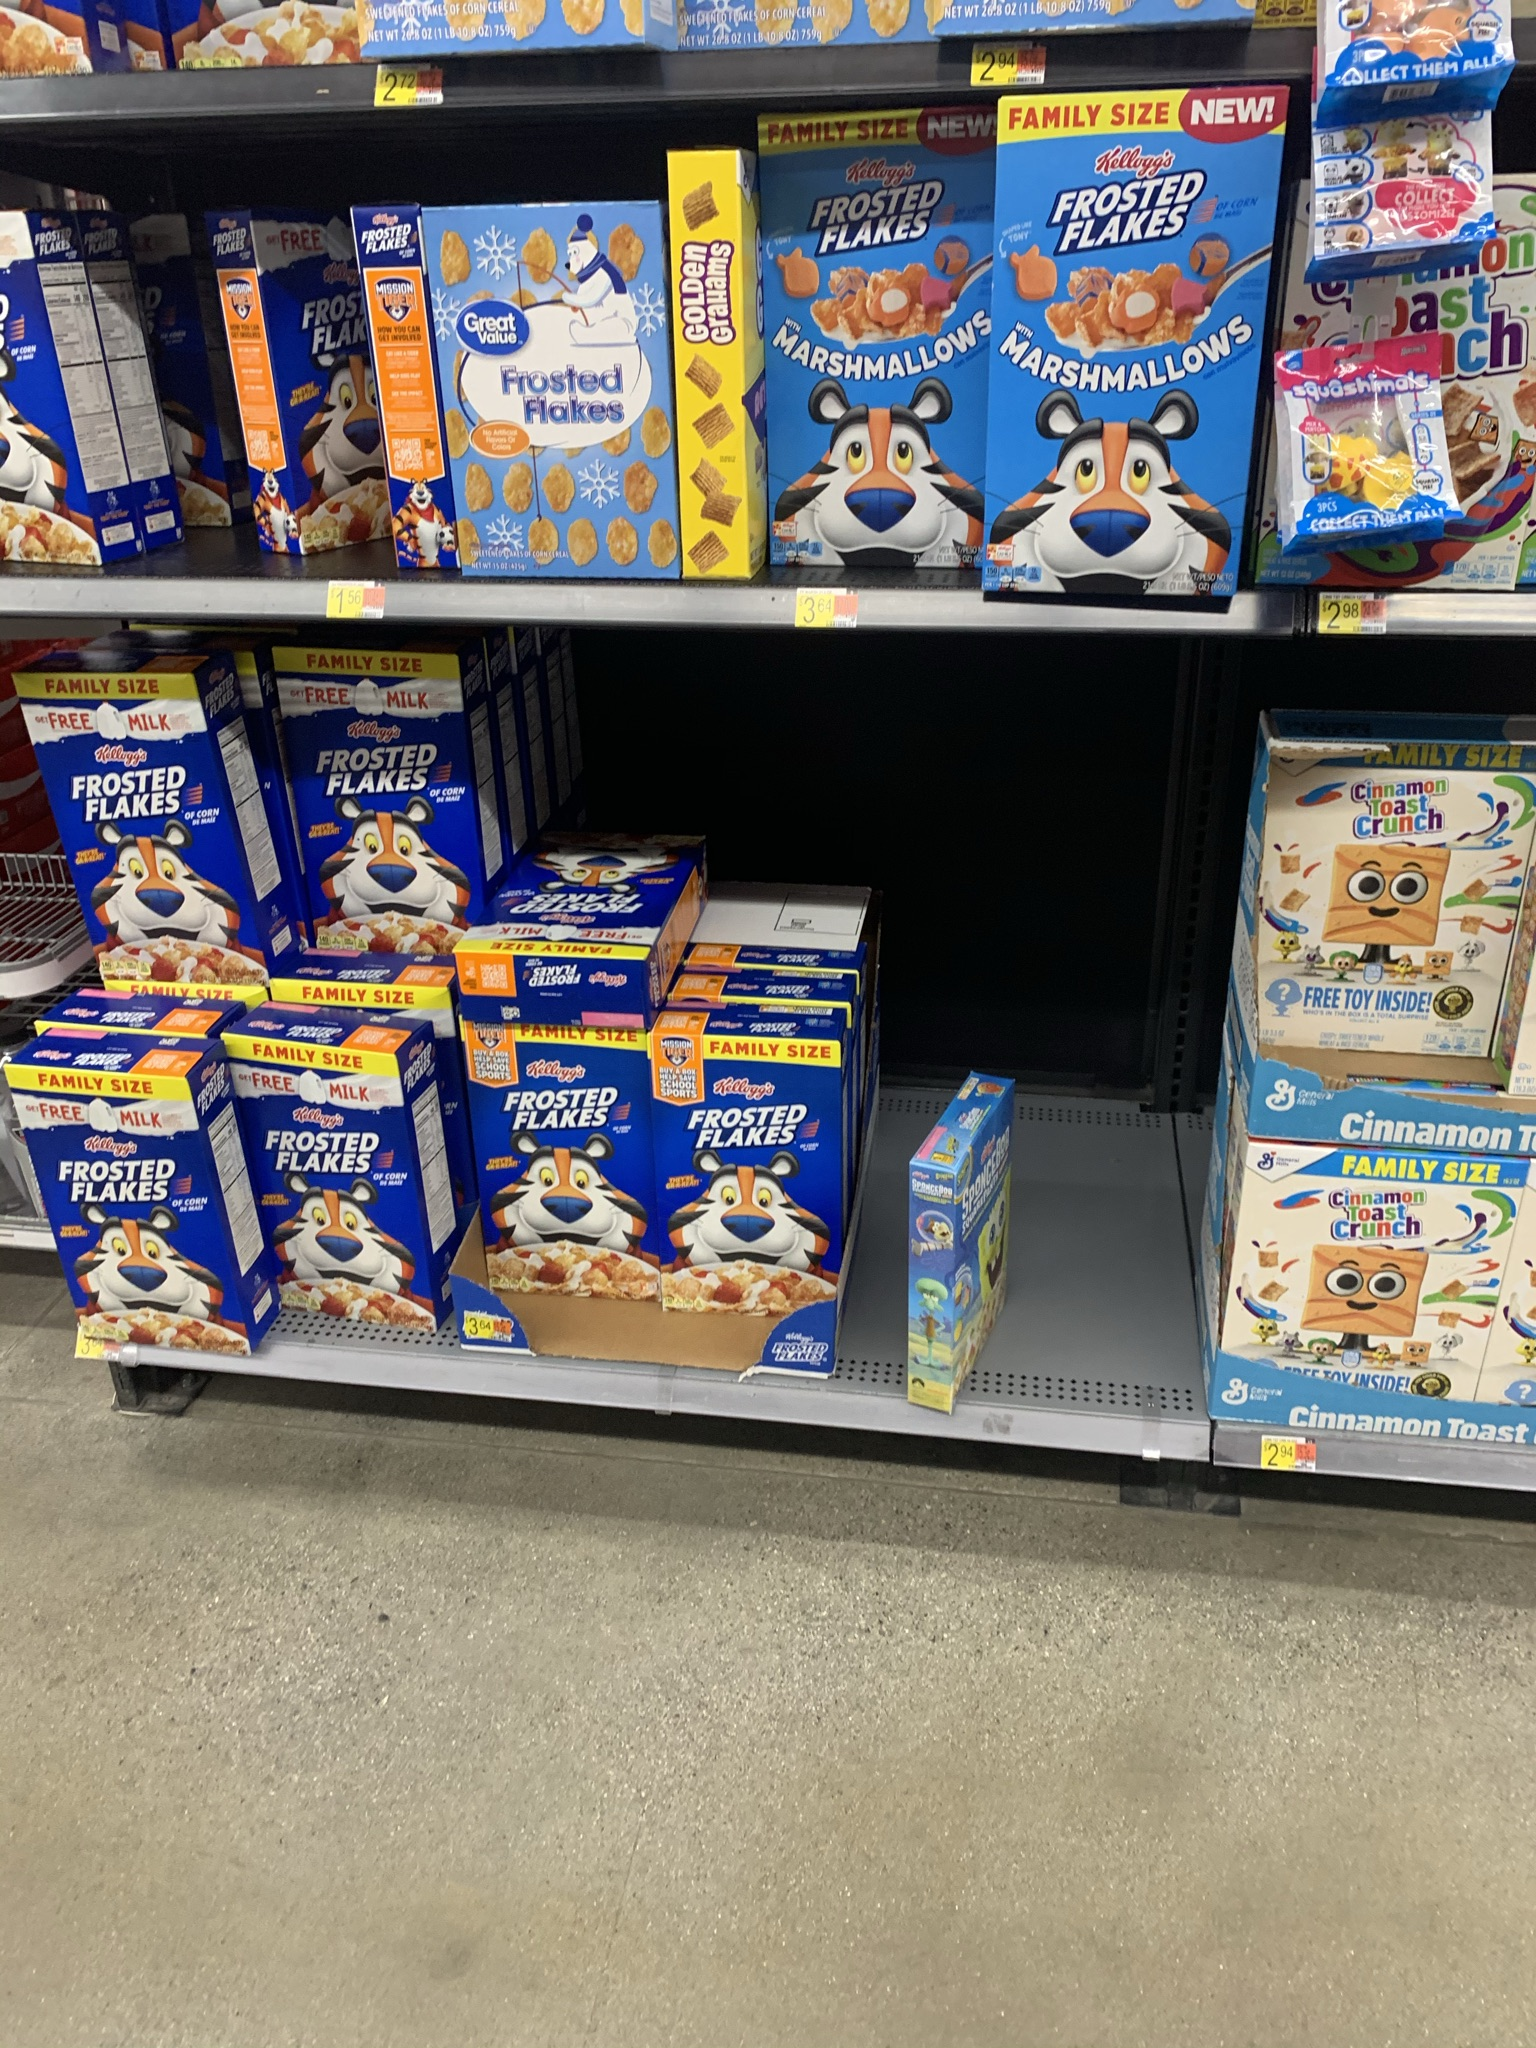box: (997, 114, 1238, 593), (434, 226, 671, 576), (778, 135, 970, 564), (1288, 764, 1492, 1055), (1242, 1143, 1489, 1379), (663, 1053, 831, 1308), (61, 1089, 215, 1338), (278, 1076, 428, 1324), (481, 1055, 645, 1276), (319, 706, 457, 959), (253, 240, 361, 552), (508, 861, 650, 984), (913, 1171, 962, 1413)
